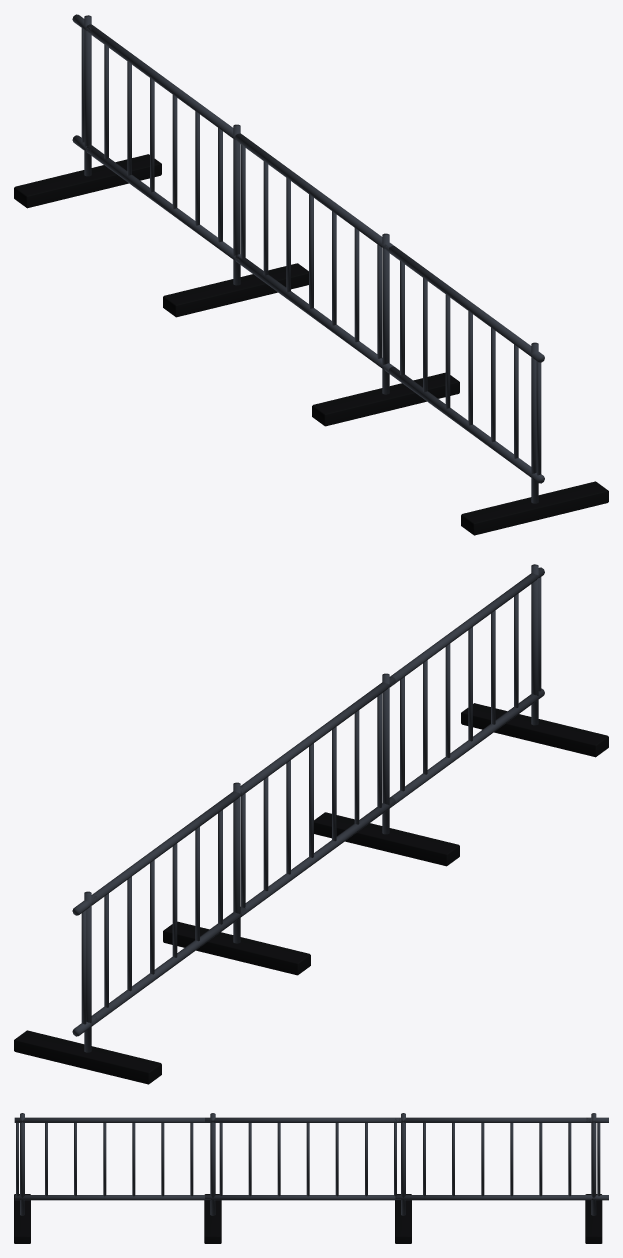
The model's file is side-street-barrier.glb.
3 views of the same model, one above another, from view 1: azimuth 30°, elevation 25°; view 2: azimuth 150°, elevation 25°; view 3: azimuth 270°, elevation 25° (orthographic). The views are drawn at different scales.
Parts seen in each view (by area): view 1: side-street-barrier; view 2: side-street-barrier; view 3: side-street-barrier.
Boxes of the visible parts, box(x1,y1,x2,y2) form: side-street-barrier: box(14, 14, 608, 535); side-street-barrier: box(14, 564, 608, 1084); side-street-barrier: box(14, 1113, 608, 1243).
Bounding box in the file's own units: 1 × 1.2 × 5.93.
Materials: 1 (1 with a texture image).
